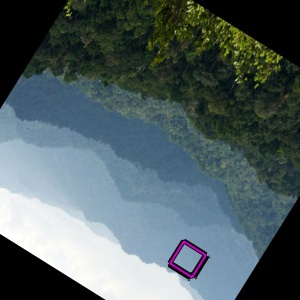square: (165, 236, 212, 283)
